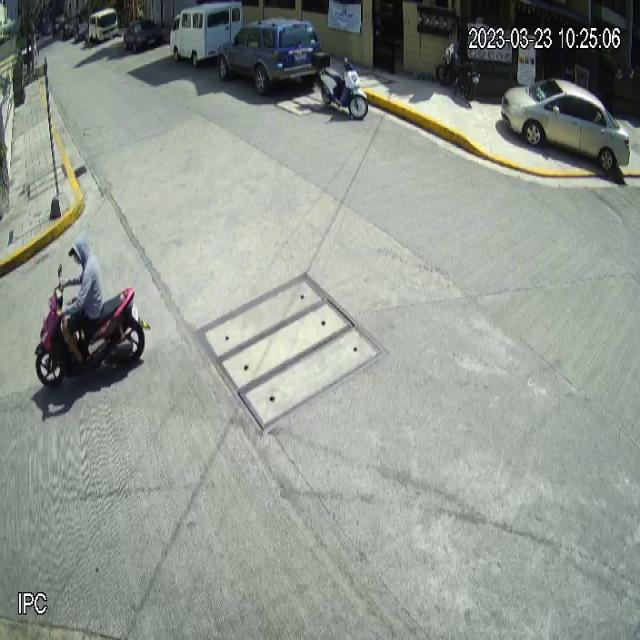Car: (501, 76, 631, 171), (219, 15, 325, 94)
Motorcycle: (33, 263, 150, 388), (312, 48, 369, 120)
Van: (170, 1, 245, 67)
